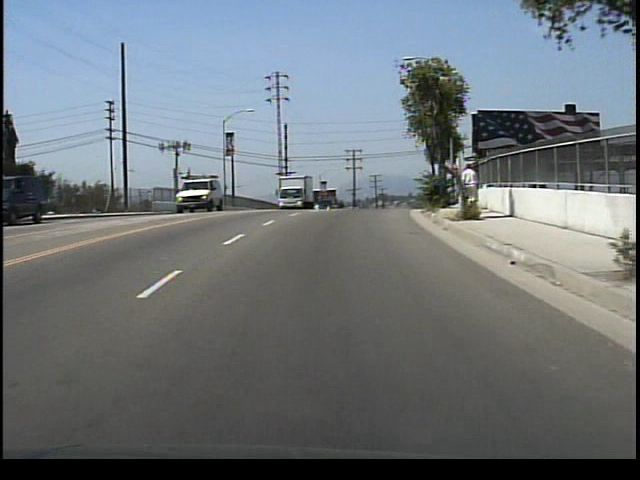person: (457, 162, 481, 219)
